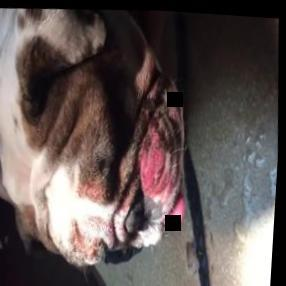skin_lesions: (136, 123, 179, 204)
